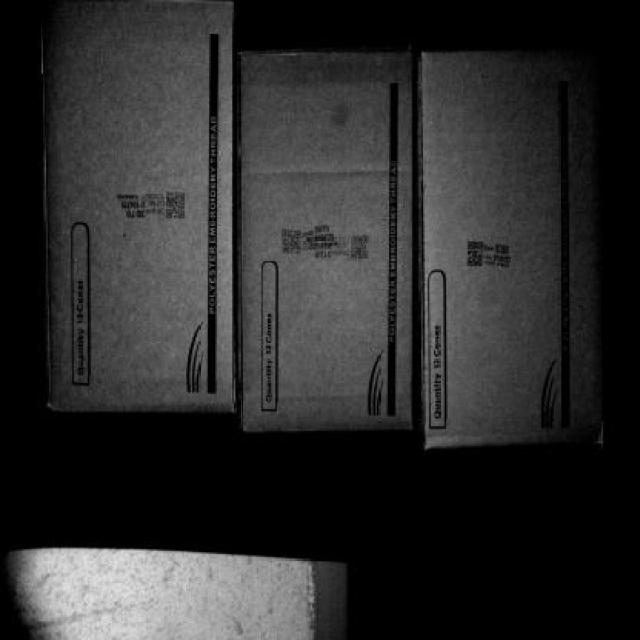cardboxes: (45, 4, 238, 416), (424, 48, 608, 454), (248, 52, 414, 425)
